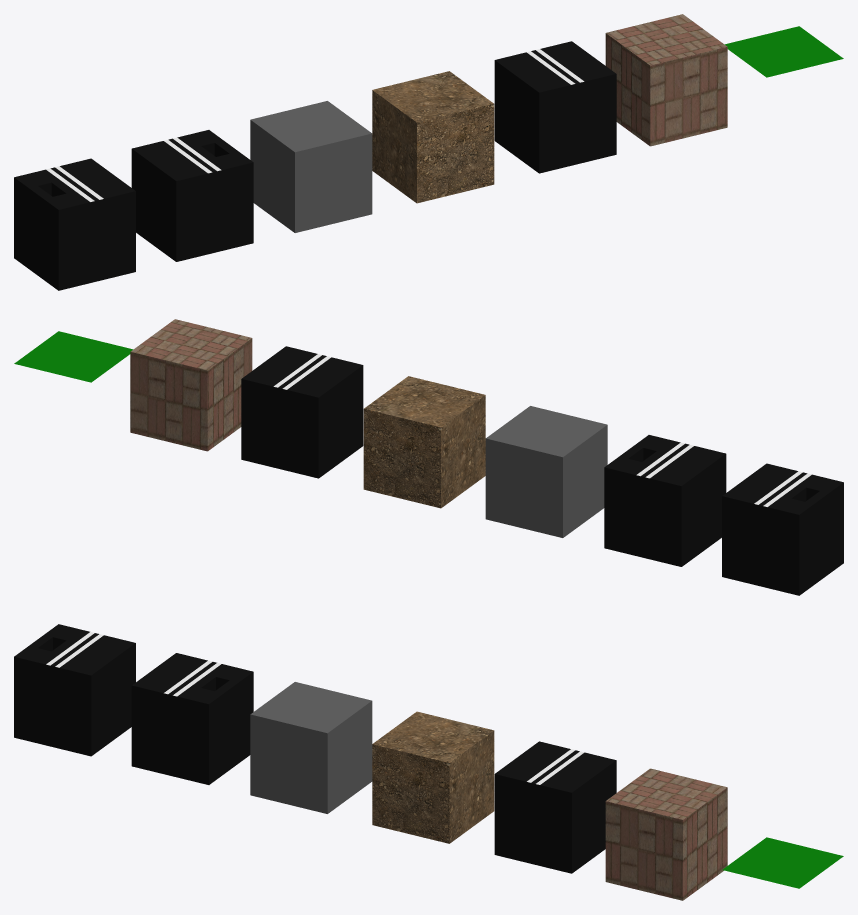
Rendered from terrain.gltf.
3 renders of one model, top to bottom at view 1: azimuth 30°, elevation 25°; view 2: azimuth 150°, elevation 25°; view 3: azimuth 330°, elevation 25°, orthographic.
Visible parts, largest first — view 1: tanah, jalan_aspal, jalan_berlubang.001, trotoar, jalan_berlubang, jalan_taman, rumput; view 2: tanah, jalan_aspal, jalan_berlubang.001, trotoar, jalan_berlubang, jalan_taman, rumput; view 3: tanah, trotoar, jalan_taman, jalan_berlubang, jalan_berlubang.001, jalan_aspal, rumput.
Boxes of the visible parts, <box> form: tanah: <box>372,71,494,203</box>; jalan_aspal: <box>494,41,616,173</box>; jalan_berlubang.001: <box>14,158,135,290</box>; trotoar: <box>250,101,372,232</box>; jalan_berlubang: <box>131,130,253,261</box>; jalan_taman: <box>605,14,727,146</box>; rumput: <box>724,26,843,77</box>; tanah: <box>363,376,485,508</box>; jalan_aspal: <box>241,346,363,478</box>; jalan_berlubang.001: <box>722,463,843,595</box>; trotoar: <box>485,406,607,537</box>; jalan_berlubang: <box>604,435,726,566</box>; jalan_taman: <box>130,319,252,451</box>; rumput: <box>14,331,133,382</box>; tanah: <box>372,711,494,843</box>; trotoar: <box>250,682,372,813</box>; jalan_taman: <box>605,768,727,900</box>; jalan_berlubang: <box>131,653,253,784</box>; jalan_berlubang.001: <box>14,624,135,756</box>; jalan_aspal: <box>494,741,616,873</box>; rumput: <box>722,837,843,888</box>.
Size of the model in its own units: 20.32 by 2 by 2.
6 materials, 2 textured.
